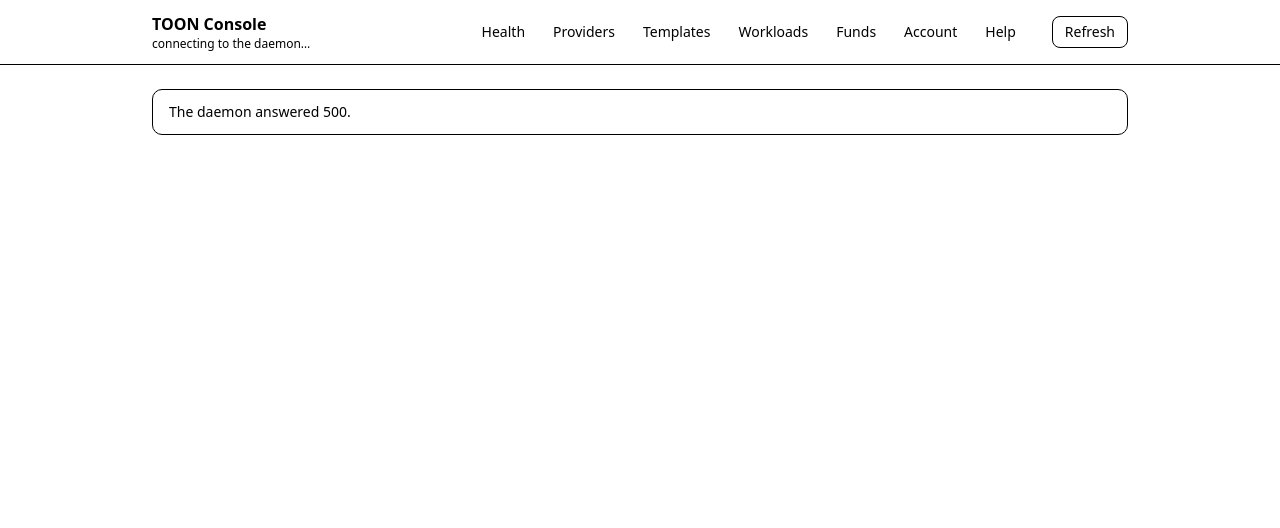
signing in with a Nostr signer › offers a remote signer first, and the local keystore beside it
The width and height of the screenshot is (1280, 528).
Step 1. Click the button "Account" → (931, 32), box x1=892 y1=16 x2=969 y2=48
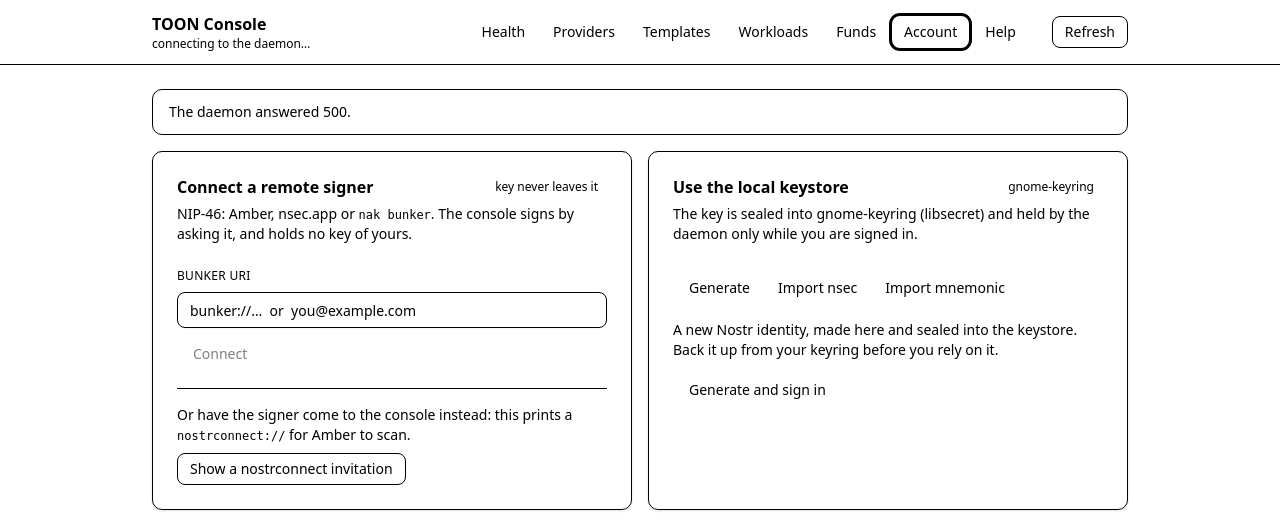
Expected: the text "Connect a remote signer" is shown, x1=177 y1=179 x2=374 y2=195
Expected: the text "Use the local keystore" is shown, x1=673 y1=179 x2=849 y2=195
Expected: the text "gnome-keyring" is shown, x1=1008 y1=178 x2=1094 y2=195
